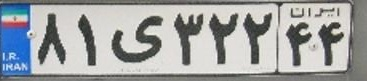character: (105, 9, 169, 69), (31, 9, 71, 70), (169, 9, 207, 69), (205, 7, 239, 69), (71, 9, 104, 71), (241, 7, 274, 69), (282, 19, 314, 69), (317, 18, 347, 68)
